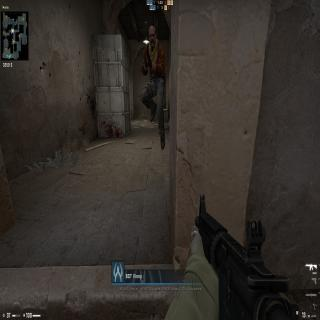T-Head: (146, 25, 158, 51)
